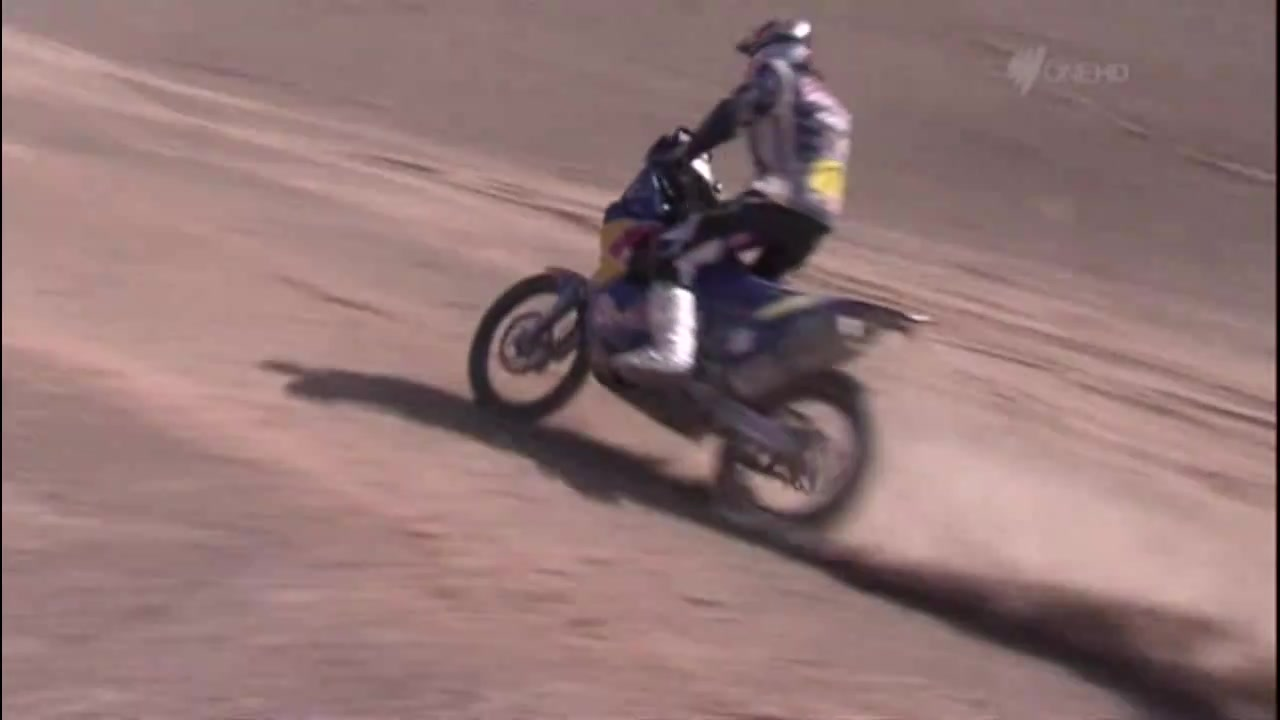motorbike: (465, 124, 928, 541)
